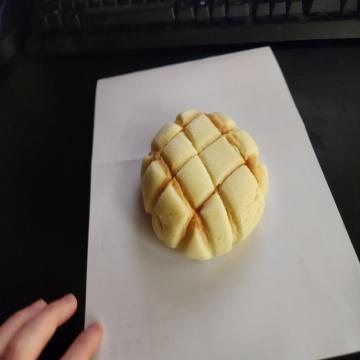melon_bread: (140, 108, 269, 262)
